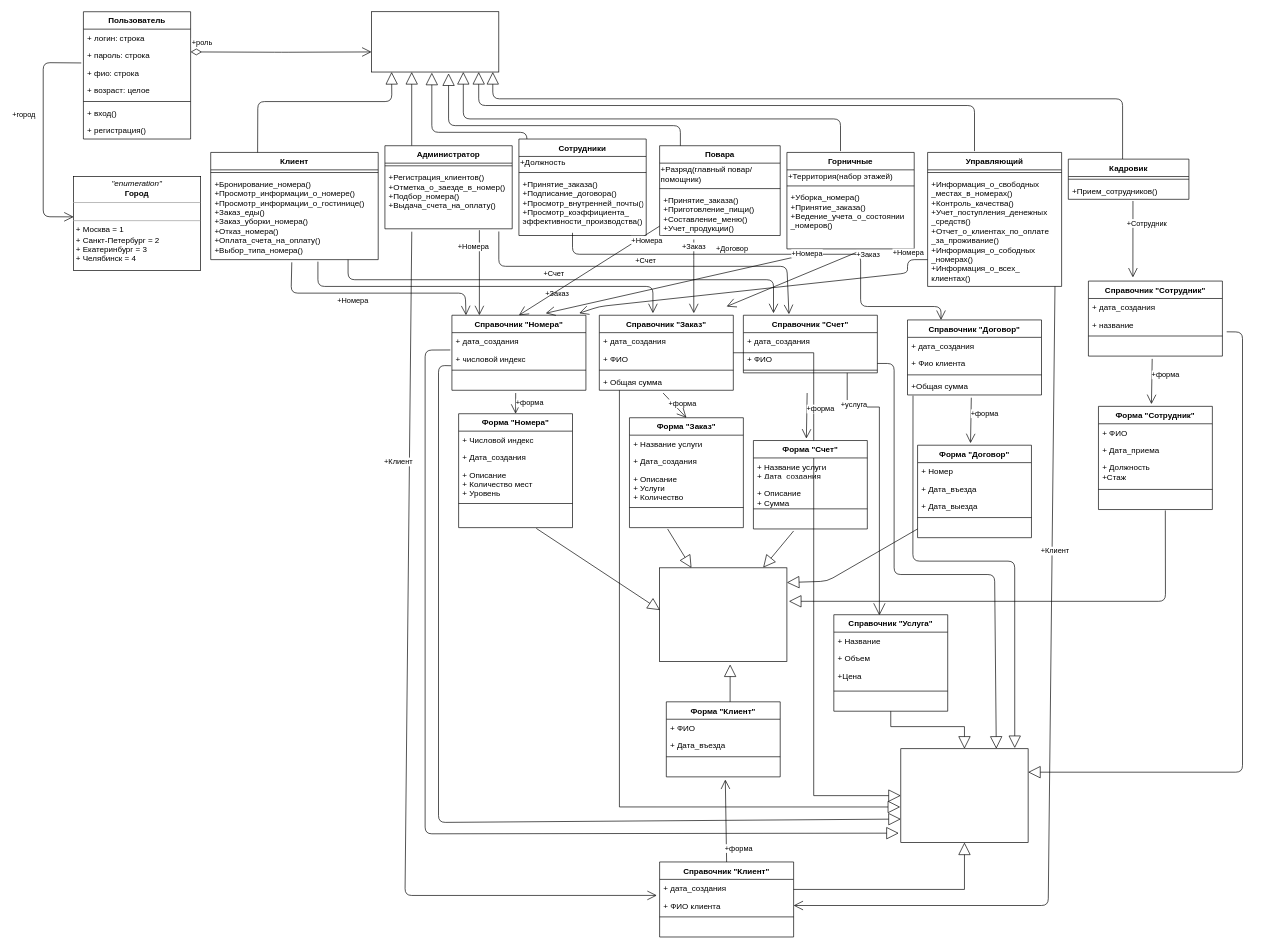
Image size: 1266x951. Some labels were removed from this diagram. The shapes that lost their labels are listed below. From the top down, each one's centre as x and y in pixels, then its label:
pixel 435 41: "abstract" Роль + выход()
pixel 723 614: "abstract" Форма + Сохранить() + Отмена()
pixel 964 795: "abstract" Справочник + Создать() + Просмотреть() + Изменить() + Удалить()
